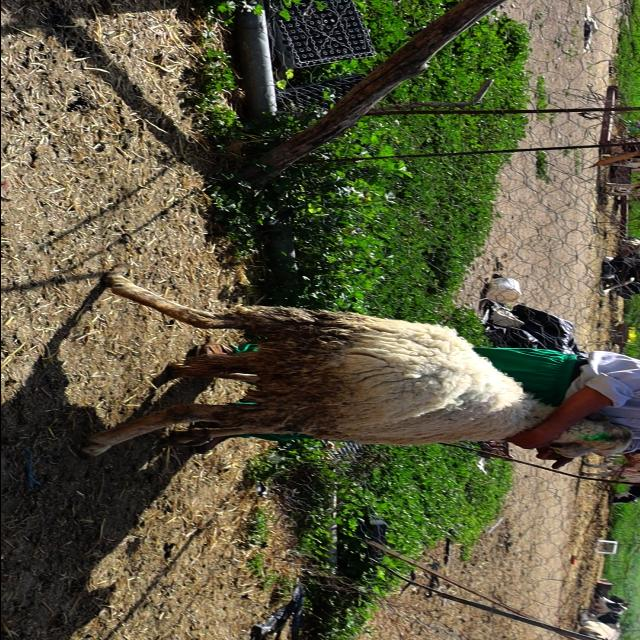Score_2: (81, 268, 552, 457)
